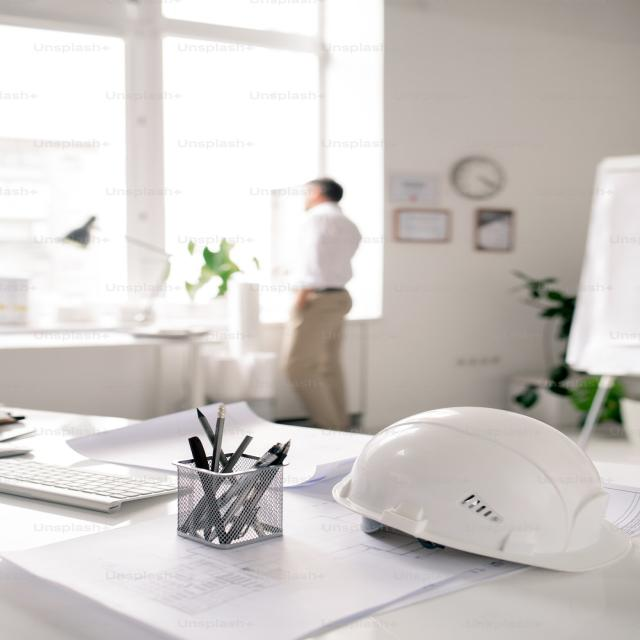helmet: (338, 378, 614, 588)
